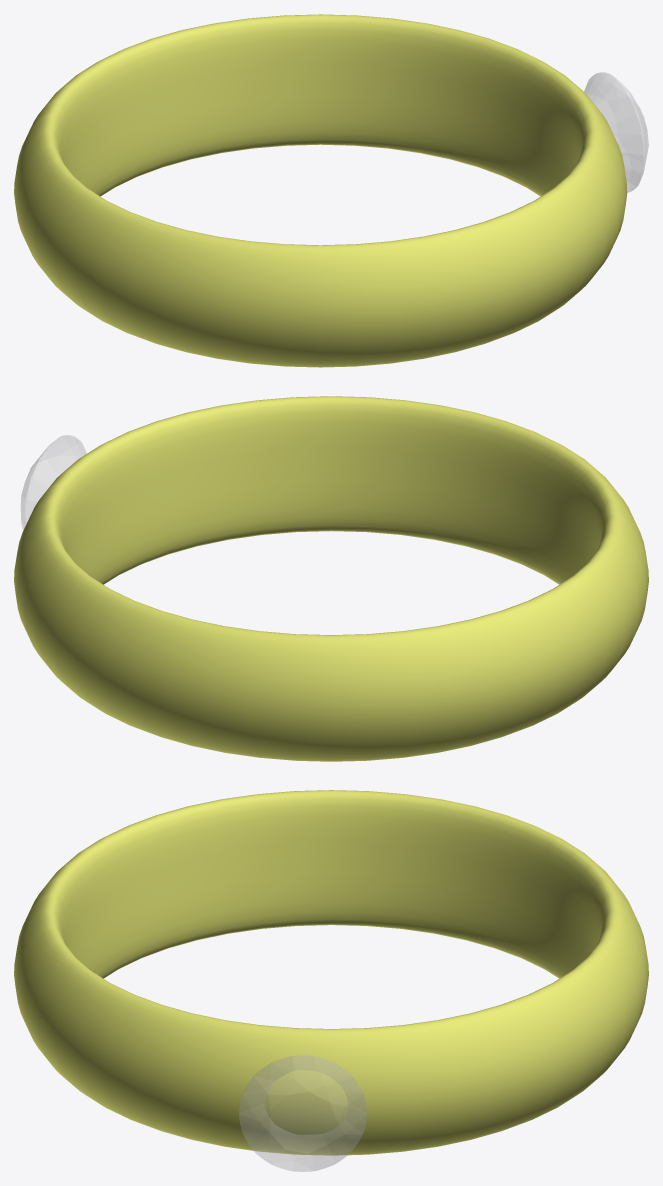
The model's file is ring.glb.
3 renders of one model, top to bottom at view 1: azimuth 30°, elevation 25°; view 2: azimuth 150°, elevation 25°; view 3: azimuth 270°, elevation 25°, orthographic. The views are drawn at different scales.
Parts seen in each view (by area): view 1: Torus, dobj; view 2: Torus, dobj; view 3: Torus, dobj.
Part boxes in pixels (x1=…): Torus: x1=14, y1=14, x2=627, y2=367; dobj: x1=584, y1=72, x2=648, y2=192; Torus: x1=14, y1=396, x2=648, y2=761; dobj: x1=21, y1=435, x2=86, y2=530; Torus: x1=14, y1=790, x2=648, y2=1155; dobj: x1=239, y1=1056, x2=366, y2=1171.
Bounding box in the file's own units: 2.8 × 0.5933 × 2.64.
